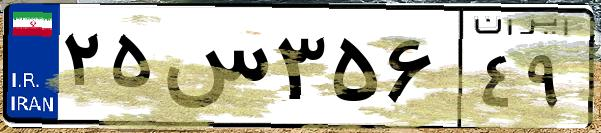2: (57, 26, 110, 100)
3: (270, 28, 330, 110)
4: (475, 38, 525, 113)
5: (330, 28, 385, 110), (110, 28, 158, 98)
6: (385, 28, 445, 110)
9: (525, 38, 570, 115)
س: (158, 20, 270, 120)
